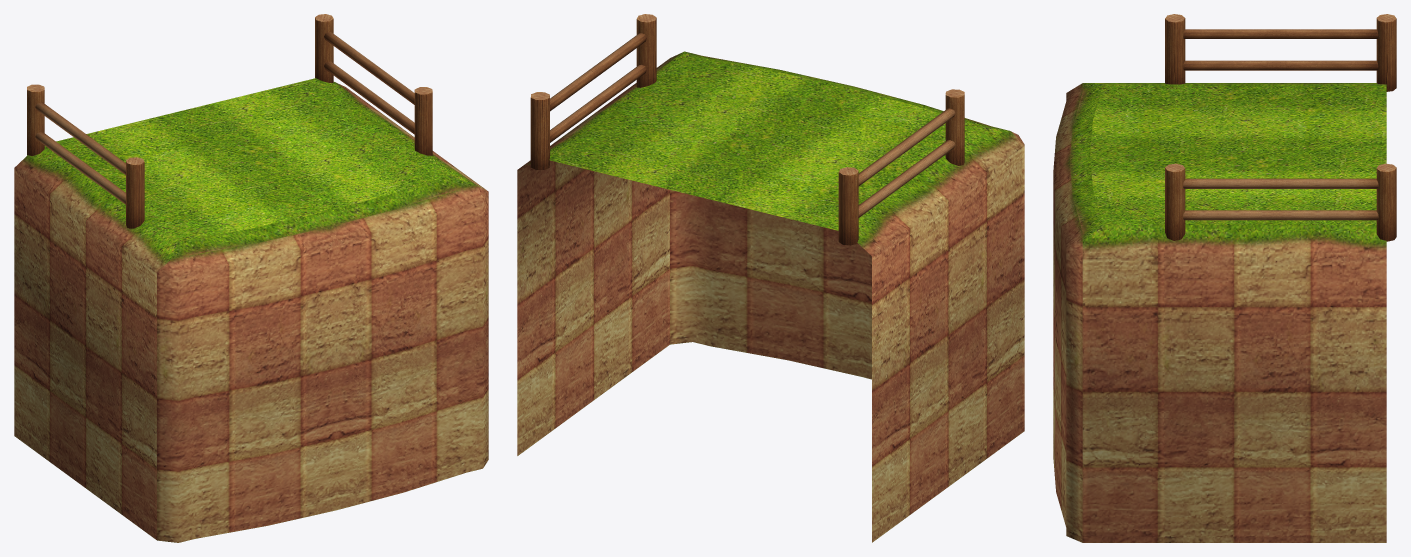
File: Ground04.FBX
3 renders of one model, left to right at view 1: azimuth 30°, elevation 25°; view 2: azimuth 150°, elevation 25°; view 3: azimuth 270°, elevation 25°, orthographic. The views are drawn at different scales.
Parts seen in each view (by area): view 1: Ground, Fence; view 2: Ground, Fence; view 3: Ground, Fence.
Part boxes in pixels (x1,y1,x2,y2): Ground: (14,78,488,542); Fence: (27,14,432,228); Ground: (517,51,1024,542); Fence: (530,14,964,245); Ground: (1053,83,1386,542); Fence: (1165,14,1396,241).
Size of the model in its own units: 4.65 by 4.59 by 3.93.
